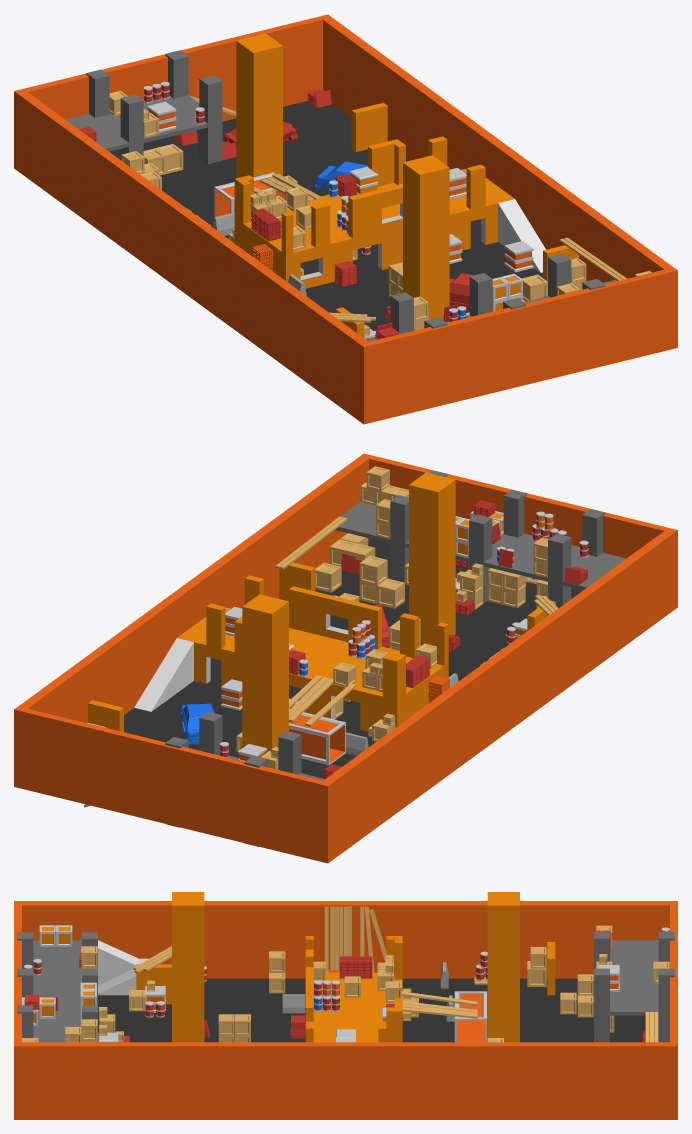
File: map_visual.glb
3 views of the same model, one above another, from view 1: azimuth 30°, elevation 25°; view 2: azimuth 150°, elevation 25°; view 3: azimuth 270°, elevation 25° (orthographic). The views are drawn at different scales.
Parts seen in each view (by area): view 1: floors, room, Plane, Cube.016, obj.048, obj.049, Cube.077, Cube.001, obj.004, Cube.005, BigBox.004, Cube.006 (+1 smaller); view 2: floors, room, Plane, Cube.077, obj.048, obj.049, Cube.016, Cube.002, Cube.005, obj.002, obj.004, Cube.035 (+3 smaller); view 3: floors, Plane, Cube.016, Cube.077, room, obj.048, obj.049, up2, Cube.005, Cube.030, obj.024, Cube.023 (+20 smaller).
Boxes of the visible parts, x1,y1,x2,y2 form: floors: (14,14,677,424); room: (234,136,514,288); Plane: (110,101,542,330); Cube.016: (65,50,222,164); obj.048: (403,155,449,319); obj.049: (236,33,282,178); Cube.077: (367,253,616,341); Cube.001: (498,199,545,272); obj.004: (351,102,387,151); Cube.005: (214,172,286,217); BigBox.004: (504,241,533,272); Cube.006: (449,273,473,307); floors: (14,453,677,863); room: (177,575,448,731); Plane: (124,538,582,778); Cube.077: (335,470,626,608); obj.048: (409,472,455,645); obj.049: (242,594,288,752); Cube.016: (165,712,323,846); Cube.002: (134,638,193,711); Cube.005: (289,709,345,765); obj.002: (279,562,315,601); obj.004: (88,700,123,731); Cube.035: (180,703,214,744); floors: (14,901,677,1119); Plane: (98,978,658,1042); Cube.016: (594,932,674,1042); Cube.077: (17,932,97,1042); room: (305,936,402,1042); obj.048: (172,892,204,1042); obj.049: (487,892,519,1042); up2: (98,940,148,995); Cube.005: (454,991,487,1042); Cube.030: (330,906,347,969); obj.024: (136,964,171,1004); Cube.023: (360,906,374,972).
Size of the model in its own units: 8.5 by 4.35 by 16.4.
